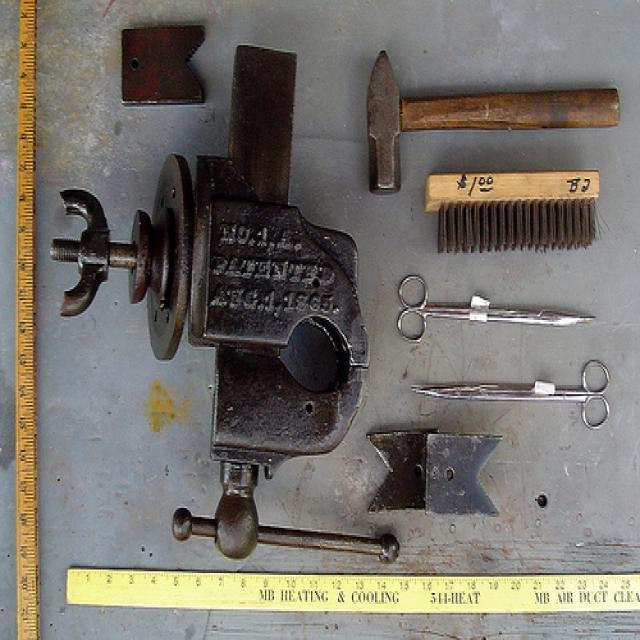hammer: (357, 42, 623, 210)
